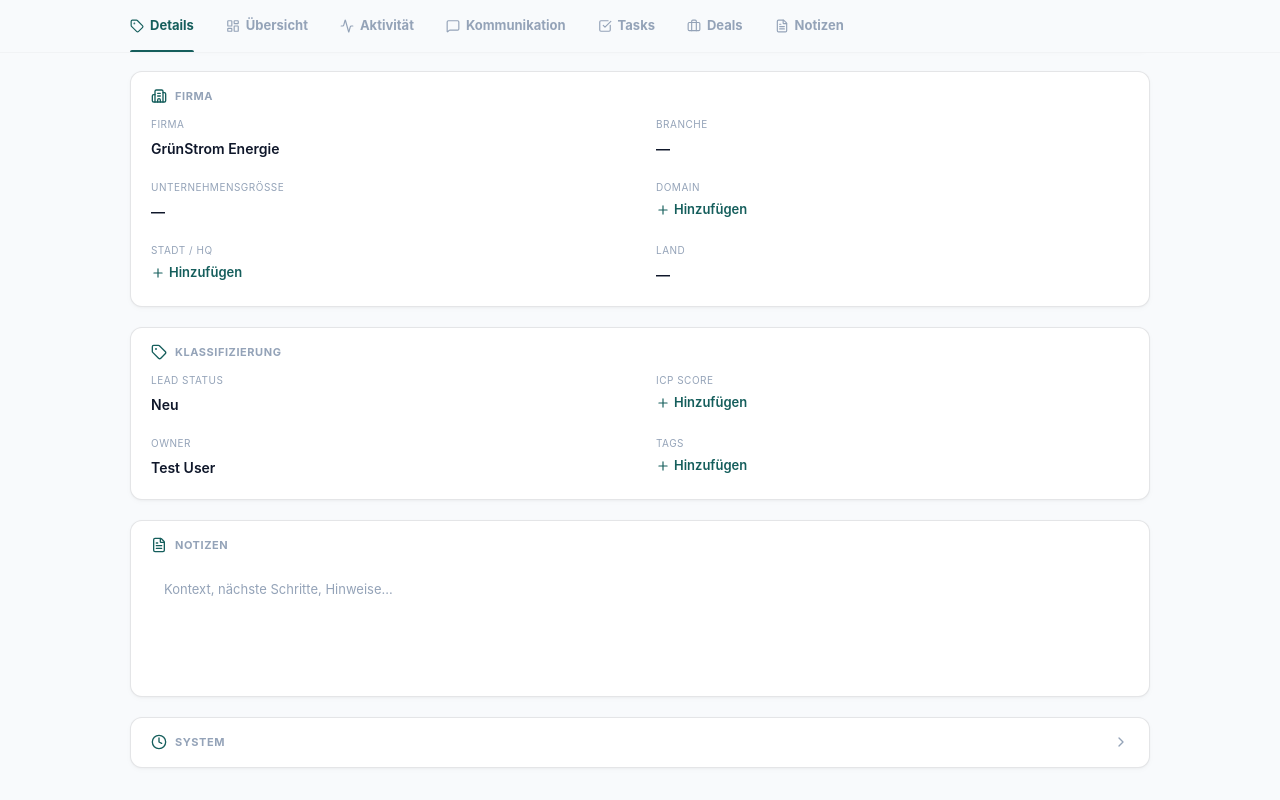
Test: HunterSidepanel Details-Tab — gerenderter Zustand › System-Sektion zeigt echte Werte, KEINE Fakes (Manuell/Surfe/HS-48213/12. März 2026)
(page scrolled)
// System-Sektion aufklappen (collapsible defaultCollapsed).
Click the button "System": (200, 742) left=131, top=718, right=1149, bottom=766
(page scrolled)
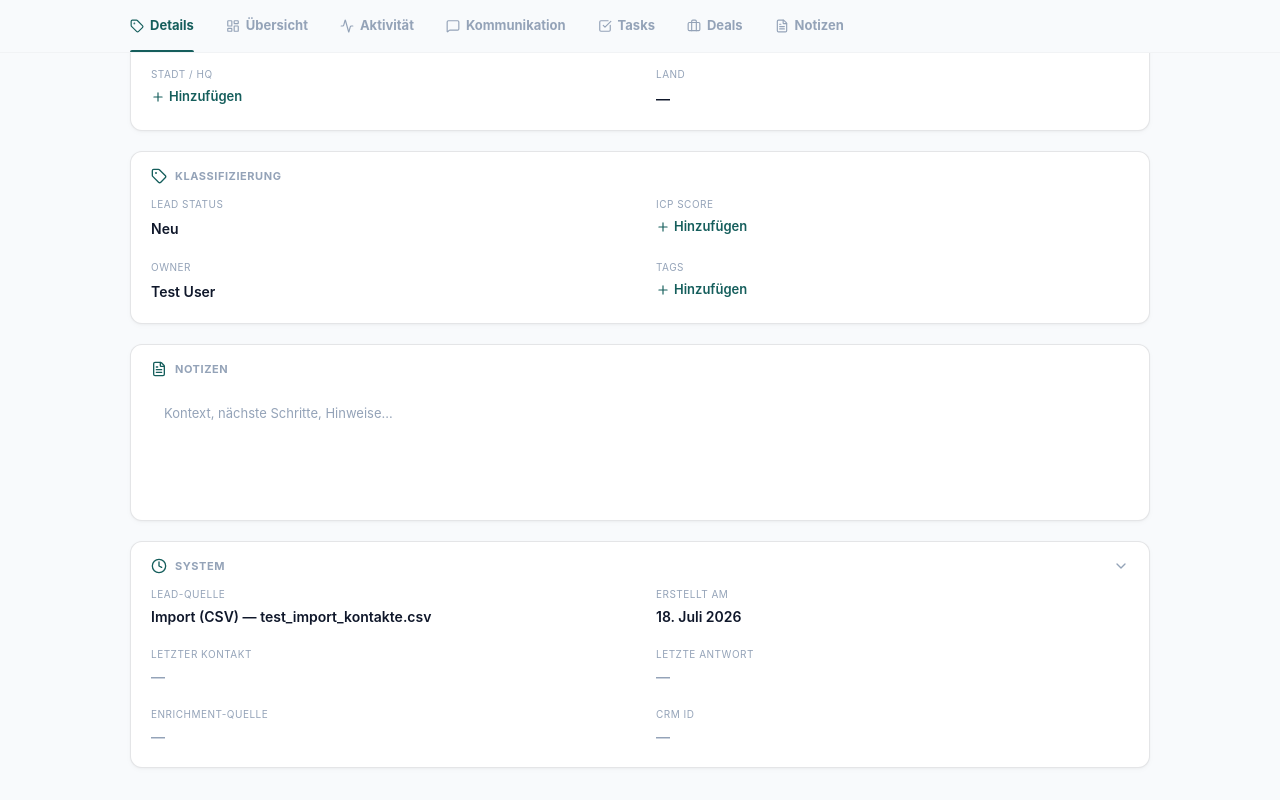
Now the text "Import (CSV) — test_import_kontakte.csv" is shown, box left=151, top=608, right=431, bottom=624
